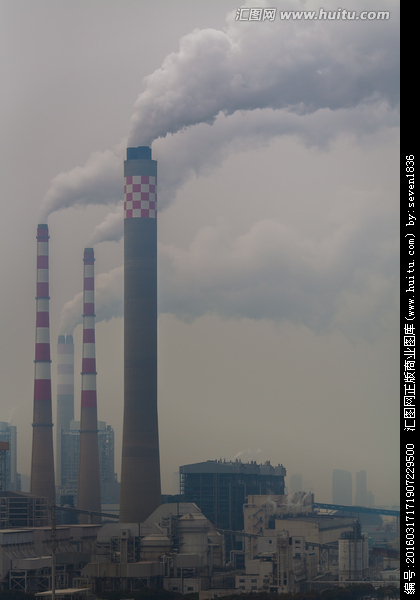dust: (112, 1, 390, 169), (24, 138, 302, 258)
